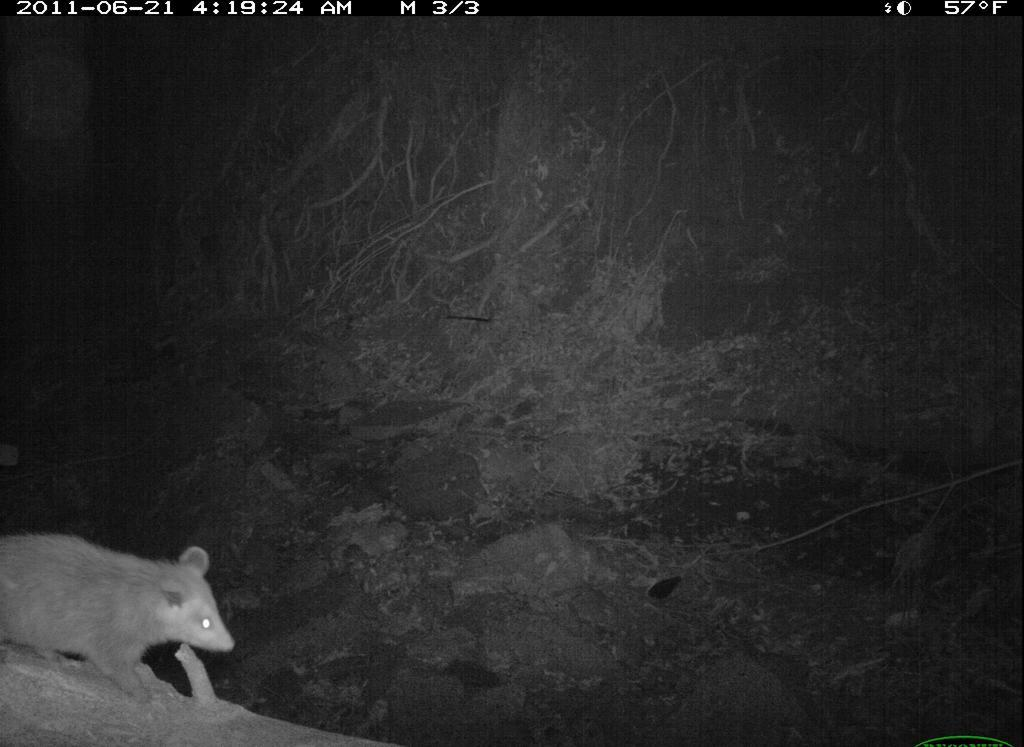opossum: (1, 498, 283, 711)
